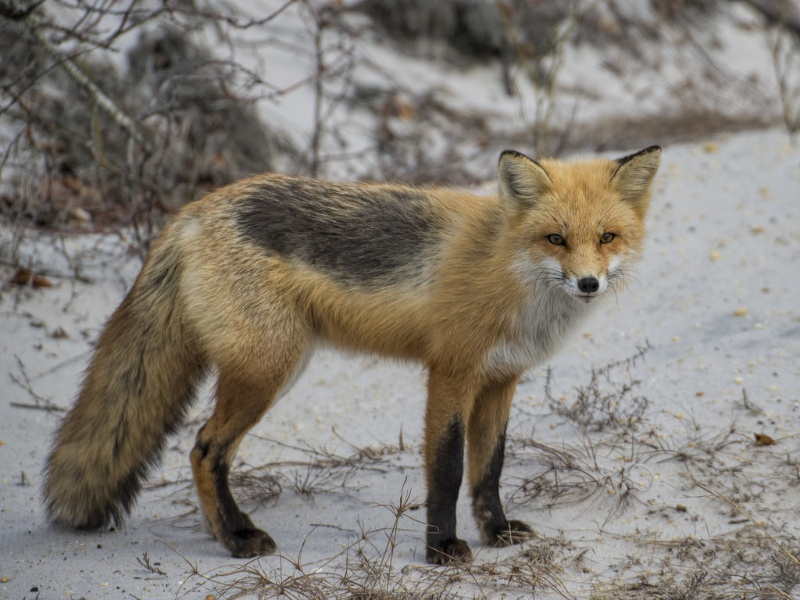fox: (36, 132, 671, 567)
